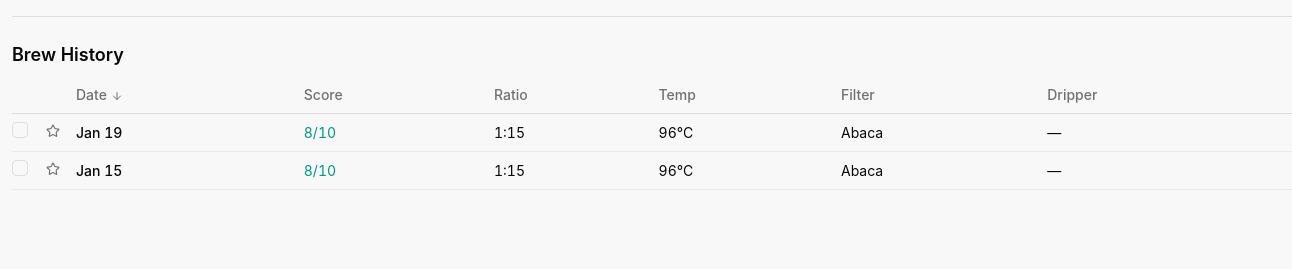
Test: BrewHistoryTable — comparison selection › shows compare bar with selection count when brews are selected
Step 1. Click the checkbox named "Select brew from Jan 19 for comparison" → [20, 130], box [12,122,28,138]
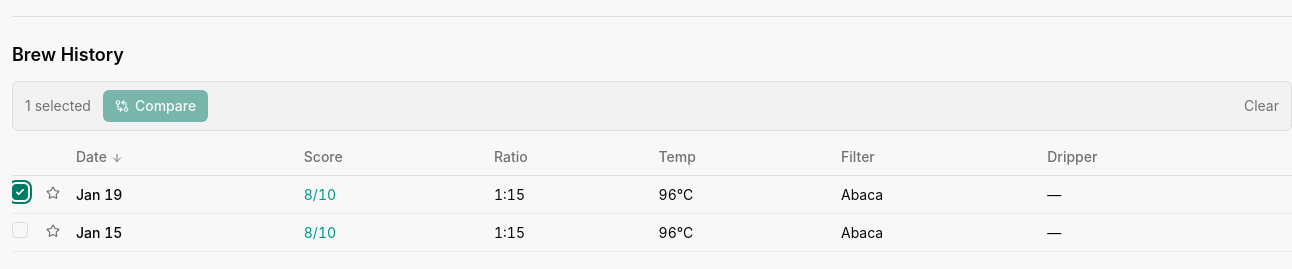
expect the text "1 selected" is shown: met, box [25,96,91,116]
expect the button "Compare" is shown: met, box [103,90,208,122]
